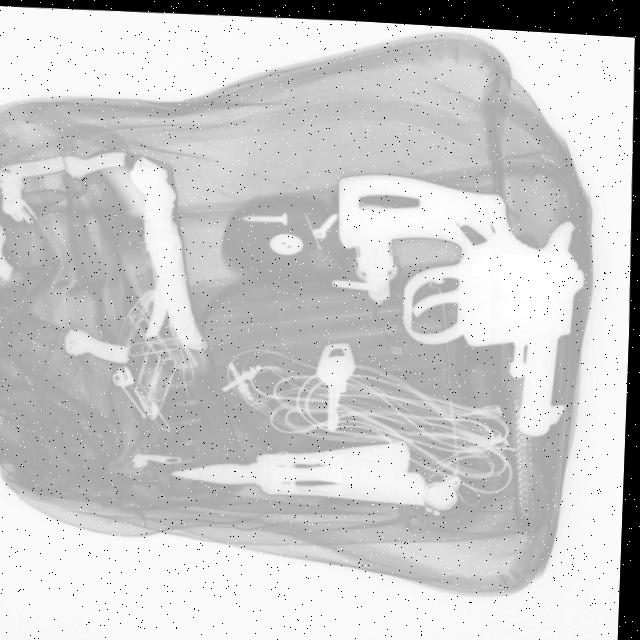pistol: (327, 162, 597, 439)
